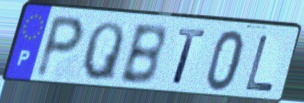0: (203, 28, 247, 93)
B: (116, 23, 167, 88)
L: (242, 33, 277, 94)
P: (33, 13, 87, 81)
Q: (79, 20, 127, 84)
T: (171, 26, 208, 88)
